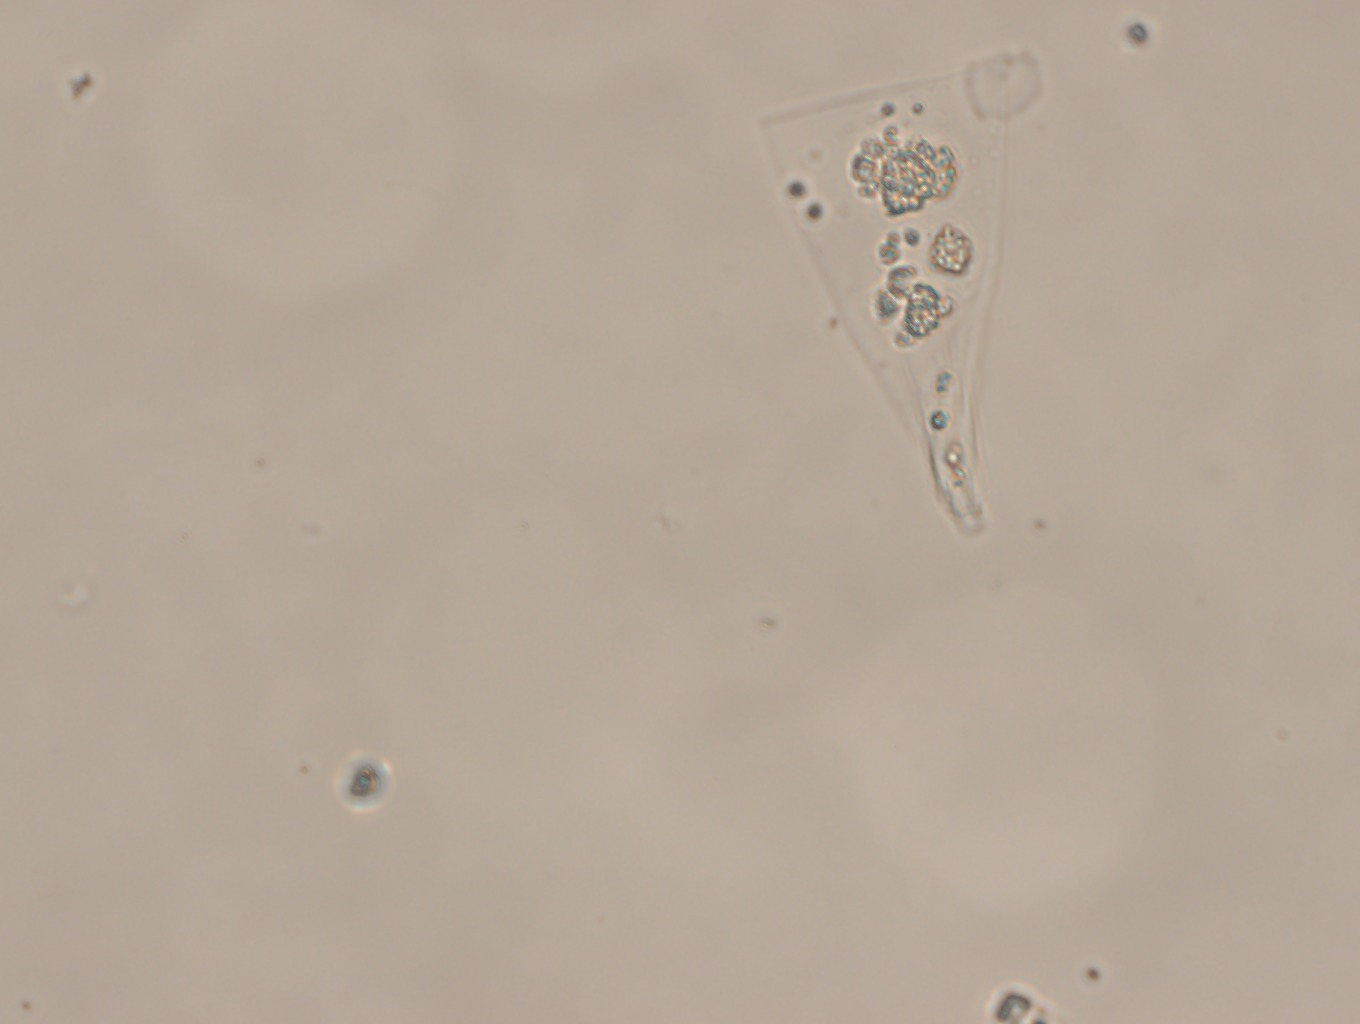helicotheca: (727, 55, 1026, 531)
